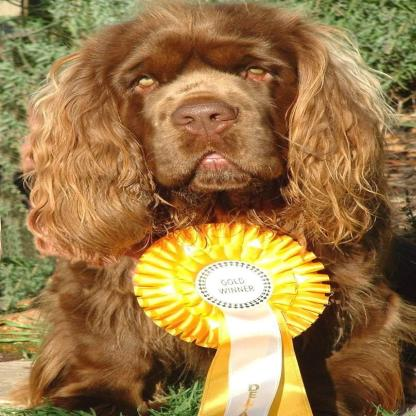Sussex_spaniel: (15, 1, 414, 414)
